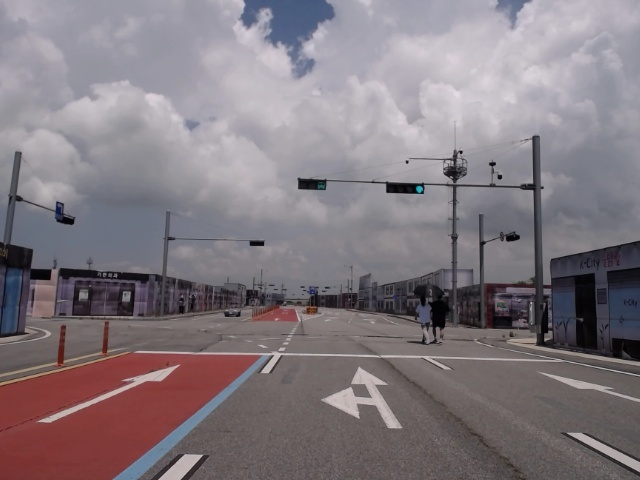straight_green_4: (387, 181, 424, 193)
